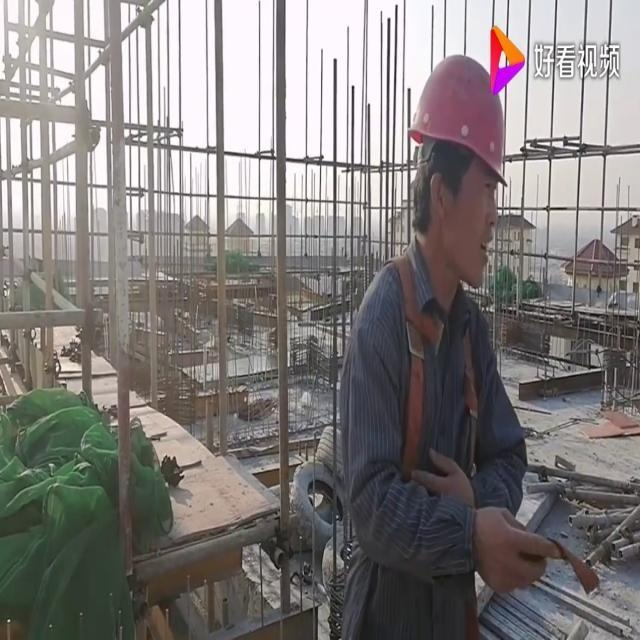Arnes_seguridad: (375, 246, 487, 502)
